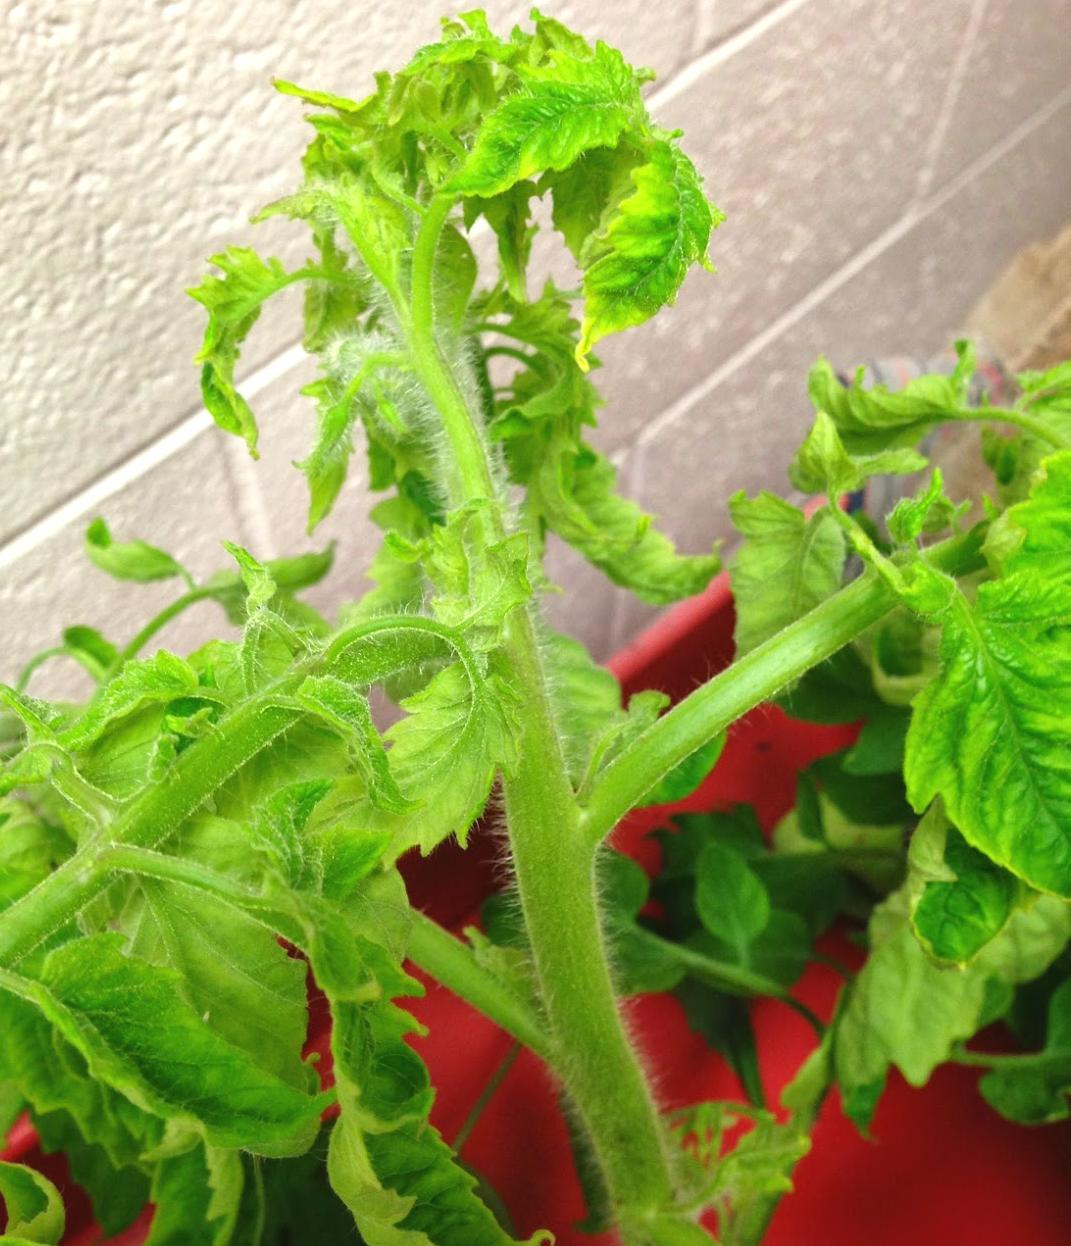Tomato leaf yellow virus: (296, 894, 543, 1246), (0, 924, 314, 1180), (877, 539, 1071, 907), (548, 136, 730, 405), (324, 635, 518, 865), (425, 18, 632, 231)
